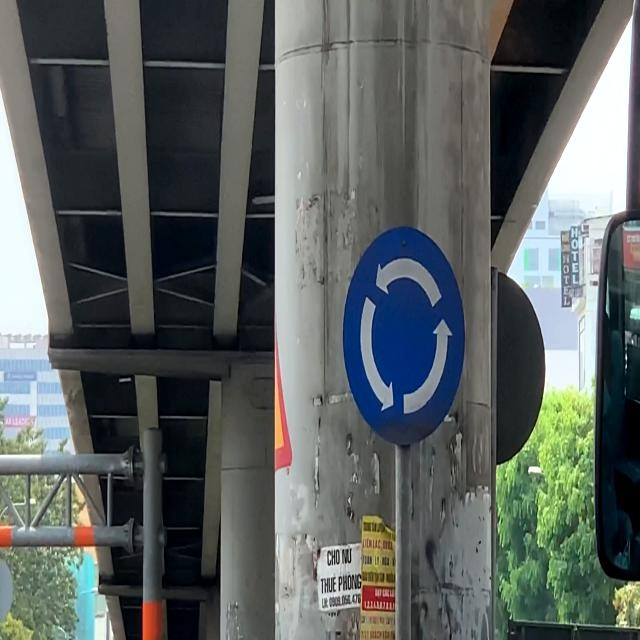bien_hieu_lenh: (340, 212, 466, 454)
